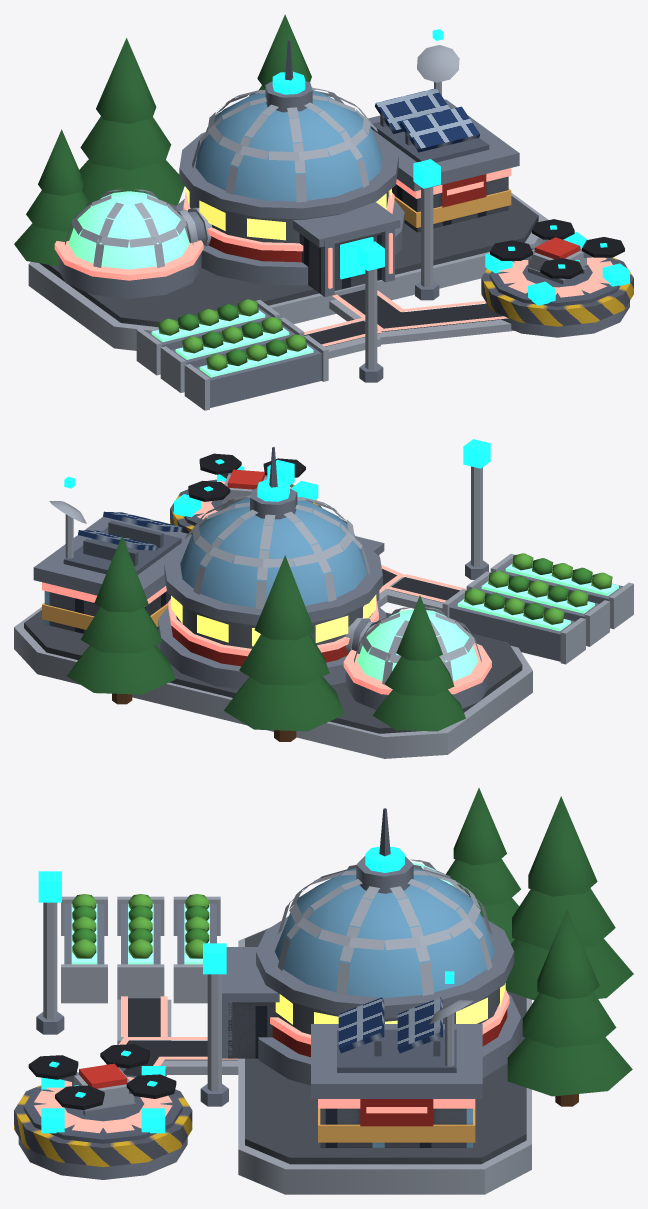
The model's file is homestead_scifi_red.glb.
3 views of the same model, one above another, from view 1: azimuth 30°, elevation 25°; view 2: azimuth 150°, elevation 25°; view 3: azimuth 270°, elevation 25° (orthographic). The views are drawn at different scales.
Parts seen in each view (by area): view 1: homestead_scifi_red; view 2: homestead_scifi_red; view 3: homestead_scifi_red.
Boxes of the visible parts, bbox=[...] form: homestead_scifi_red: bbox=[14, 14, 633, 410]; homestead_scifi_red: bbox=[14, 439, 633, 758]; homestead_scifi_red: bbox=[14, 788, 633, 1194].
Size of the model in its own units: 0.5118 by 0.246 by 0.528.
Materials: 5 (1 with a texture image).
